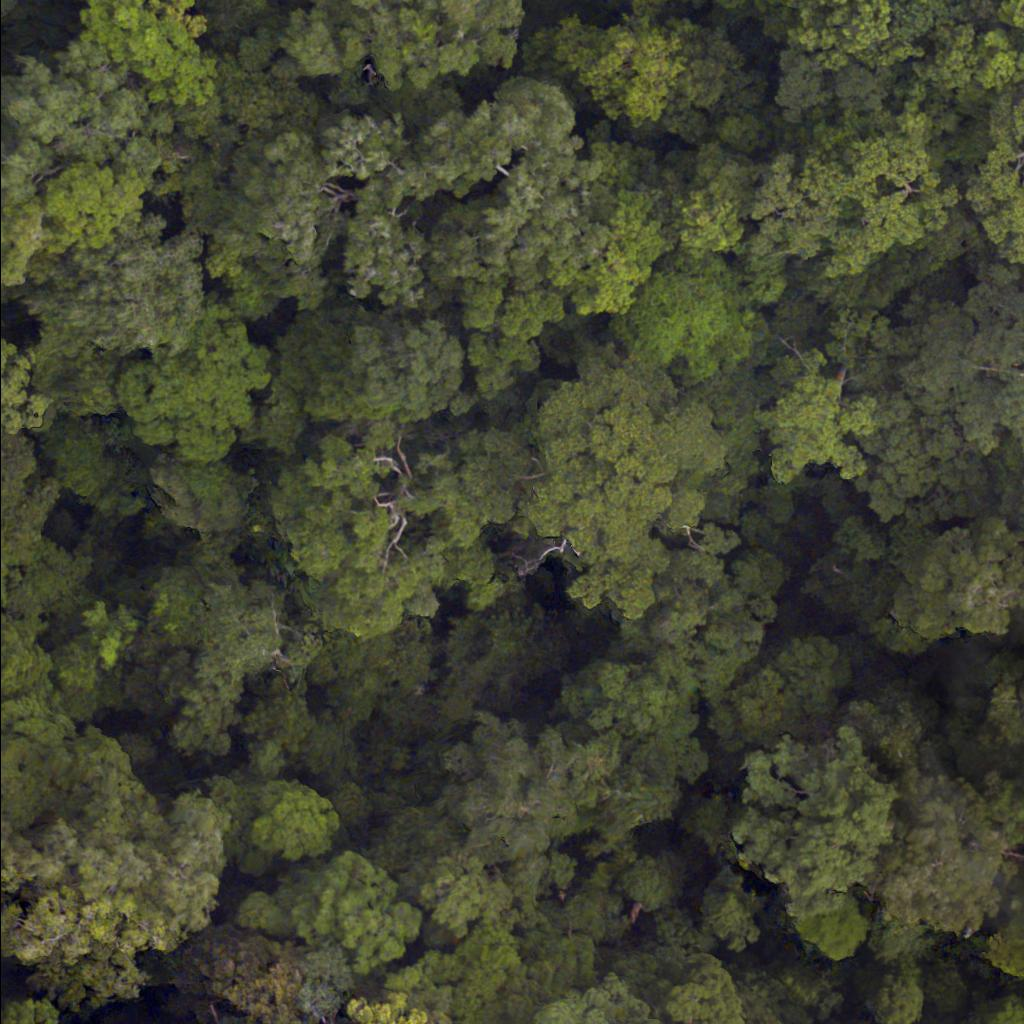crown: (0, 858, 180, 1013), (372, 923, 592, 1023), (168, 929, 363, 1023), (274, 851, 423, 966), (866, 835, 997, 942), (610, 941, 750, 1023), (697, 866, 760, 956), (615, 856, 689, 922), (792, 898, 863, 956), (869, 966, 924, 1023), (922, 959, 974, 1016), (876, 914, 931, 959), (349, 995, 437, 1023), (999, 885, 1023, 971), (980, 987, 1023, 1023)
